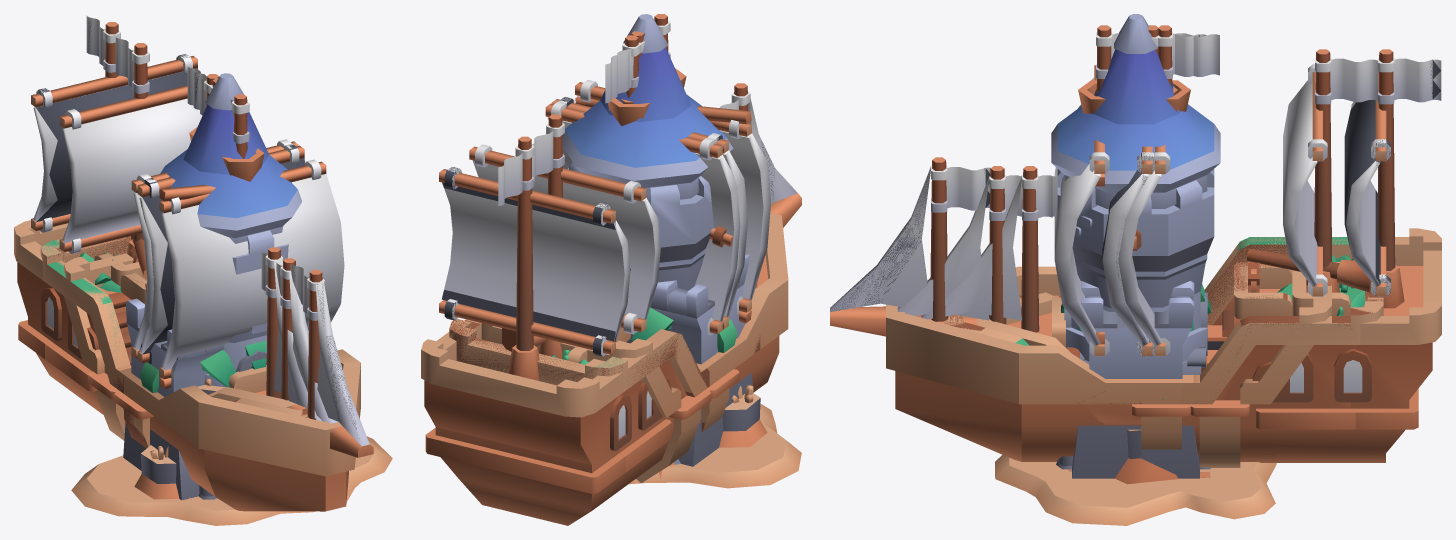
File: ship.glb
3 views of the same model, side by side, from view 1: azimuth 30°, elevation 25°; view 2: azimuth 150°, elevation 25°; view 3: azimuth 270°, elevation 25° (orthographic). The views are drawn at different scales.
Parts seen in each view (by area): view 1: ship-large, sail-a (×5), sail-b (×3), ship-medium, tower-complete-large, ship-small, patch-sand, castle-gate, ship-wreck, flag-c (×2), tower-complete-small, rocks-sand-a (+4 smaller); view 2: ship-large, sail-b (×3), tower-complete-large, sail-a (×4), ship-medium, castle-gate, patch-sand, tower-complete-small, ship-small, ship-wreck, flag-c (×2), flag-b (×2) (+3 smaller); view 3: ship-large, ship-medium, tower-complete-large, sail-b (×3), ship-small, patch-sand, sail-a (×3), castle-gate, tower-complete-small, ship-wreck, flag-c (×2), flag-a (×2) (+4 smaller).
Boxes of the visible parts, x1=… form: ship-large: x1=14, y1=22, x2=373, y2=511; sail-a (×5): x1=131, y1=139, x2=344, y2=389; sail-b (×3): x1=31, y1=54, x2=202, y2=253; ship-medium: x1=40, y1=43, x2=338, y2=449; tower-complete-large: x1=160, y1=73, x2=302, y2=371; ship-small: x1=64, y1=74, x2=321, y2=421; patch-sand: x1=71, y1=436, x2=392, y2=525; castle-gate: x1=123, y1=298, x2=308, y2=500; ship-wreck: x1=41, y1=97, x2=309, y2=448; flag-c (×2): x1=86, y1=15, x2=149, y2=93; tower-complete-small: x1=204, y1=230, x2=288, y2=387; rocks-sand-a: x1=134, y1=378, x2=224, y2=499; ship-large: x1=421, y1=31, x2=801, y2=525; sail-b (×3): x1=439, y1=144, x2=660, y2=356; tower-complete-large: x1=562, y1=14, x2=733, y2=343; sail-a (×4): x1=545, y1=80, x2=770, y2=335; ship-medium: x1=449, y1=14, x2=760, y2=472; castle-gate: x1=650, y1=254, x2=752, y2=466; patch-sand: x1=629, y1=403, x2=801, y2=488; tower-complete-small: x1=567, y1=163, x2=713, y2=290; ship-small: x1=481, y1=35, x2=739, y2=438; ship-wreck: x1=449, y1=16, x2=760, y2=460; flag-c (×2): x1=498, y1=123, x2=564, y2=206; flag-b (×2): x1=605, y1=41, x2=645, y2=103; ship-large: x1=830, y1=25, x2=1441, y2=467; ship-medium: x1=897, y1=25, x2=1383, y2=449; tower-complete-large: x1=1051, y1=14, x2=1220, y2=363; sail-b (×3): x1=1283, y1=64, x2=1390, y2=296; ship-small: x1=921, y1=25, x2=1331, y2=457; patch-sand: x1=995, y1=455, x2=1276, y2=525; sail-a (×3): x1=1054, y1=78, x2=1170, y2=356; castle-gate: x1=1056, y1=281, x2=1210, y2=478; tower-complete-small: x1=1057, y1=169, x2=1214, y2=361; ship-wreck: x1=915, y1=28, x2=1383, y2=425; flag-c (×2): x1=1315, y1=57, x2=1441, y2=104; flag-a (×2): x1=931, y1=166, x2=1052, y2=220.
Bounding box in the file's own units: 7.74 × 10.23 × 13.1.
1 material, 1 textured.
